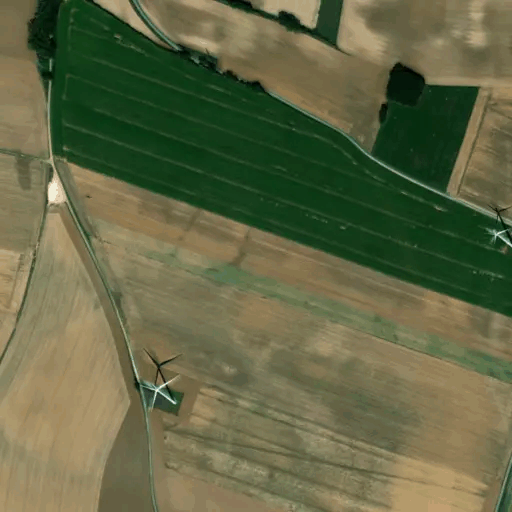wt: (135, 342, 190, 414), (476, 196, 512, 260)
